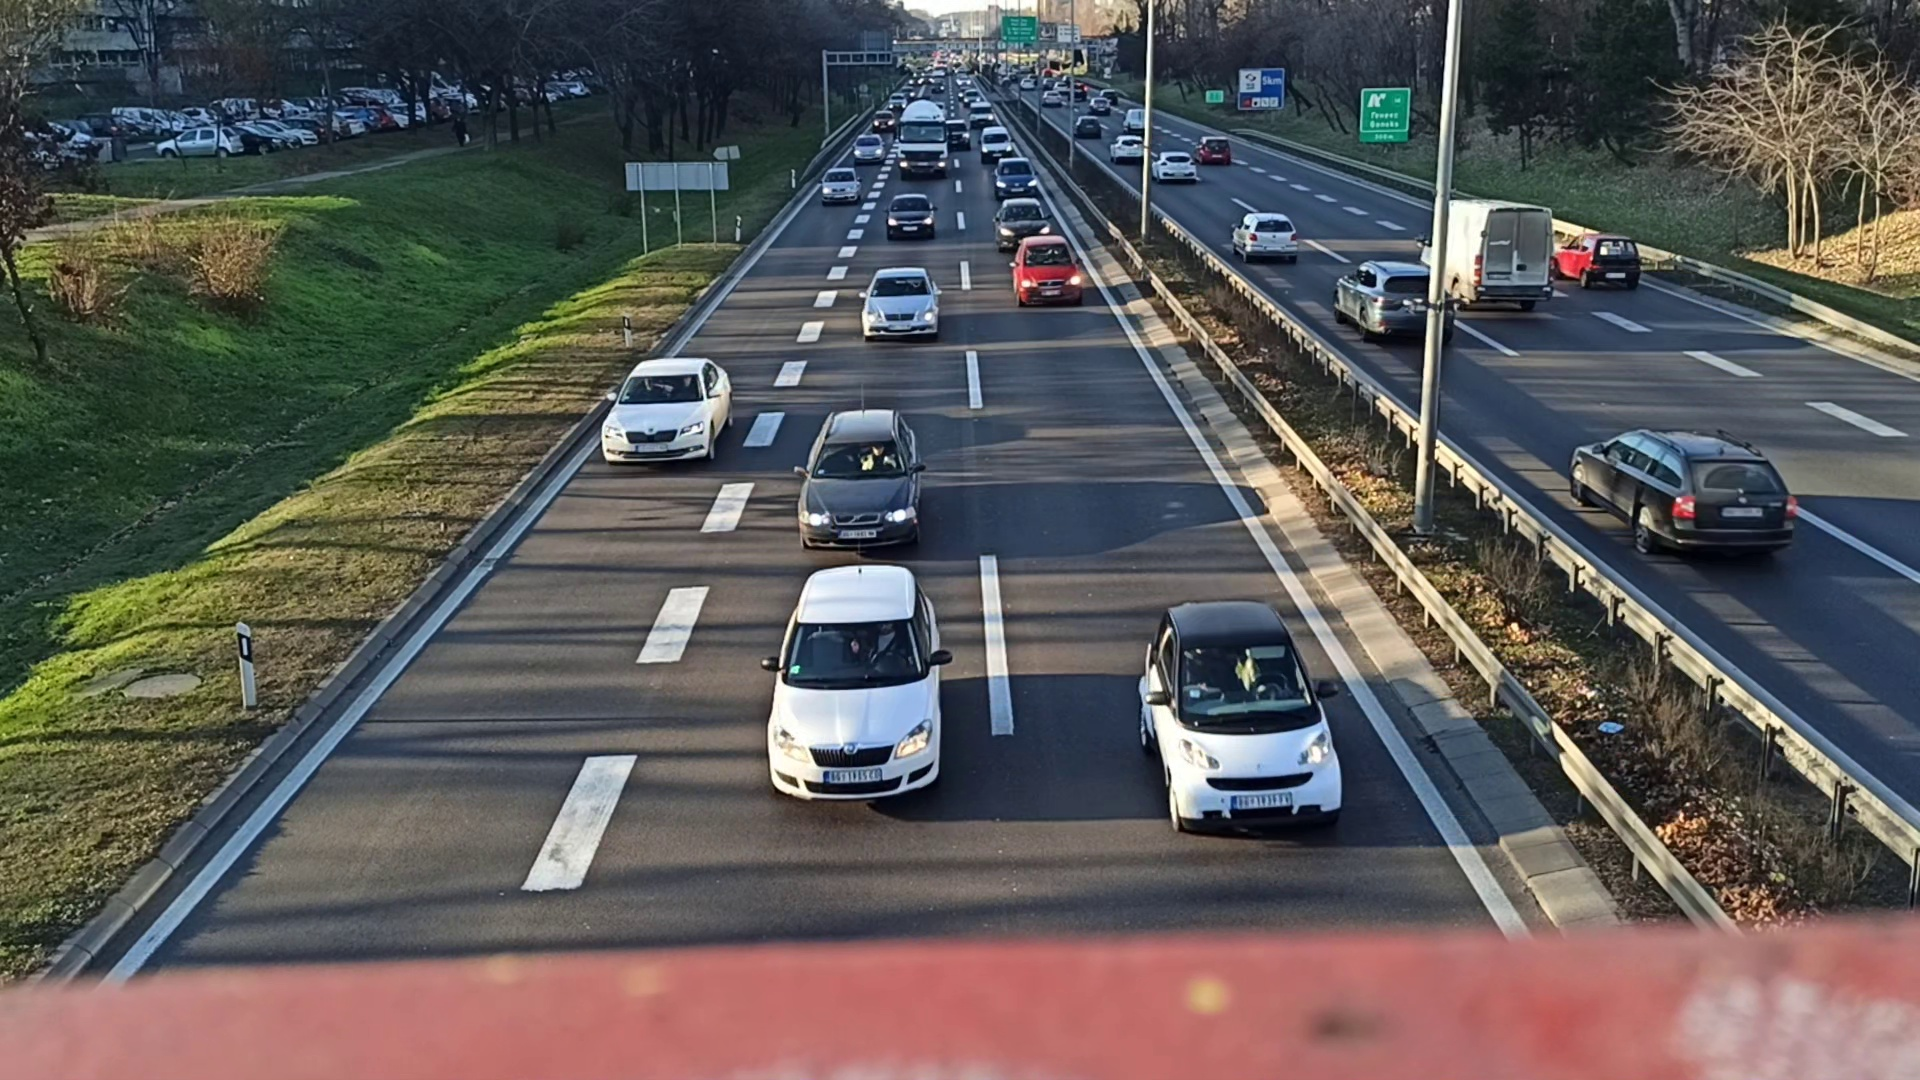car: (1139, 596, 1345, 844), (766, 568, 942, 808), (1571, 425, 1797, 568), (798, 411, 922, 553), (600, 352, 738, 465), (1332, 260, 1455, 345), (1549, 224, 1640, 295), (861, 264, 942, 343), (1011, 237, 1083, 309), (1230, 208, 1298, 261), (884, 193, 940, 241), (996, 199, 1048, 251), (996, 156, 1035, 194), (820, 169, 860, 204), (980, 127, 1011, 164)
truck: (895, 102, 945, 179)
van: (1422, 198, 1549, 313)
